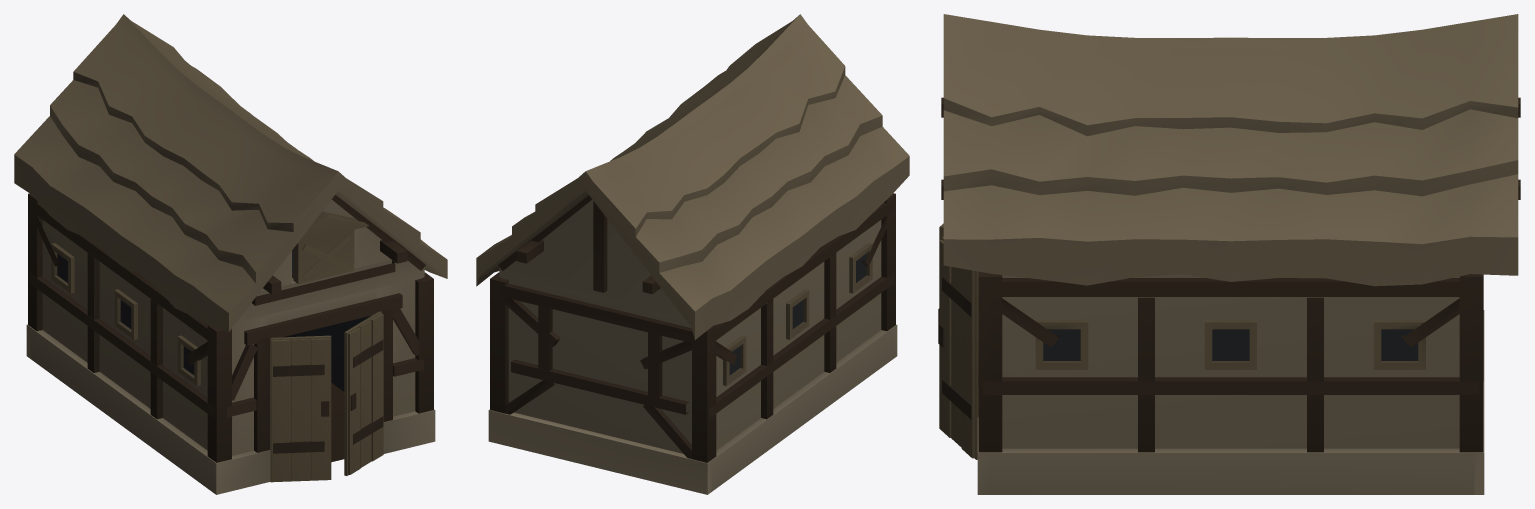
Rendered from b_timber_barn.glb.
3 views of the same model, side by side, from view 1: azimuth 30°, elevation 25°; view 2: azimuth 150°, elevation 25°; view 3: azimuth 270°, elevation 25° (orthographic). The views are drawn at different scales.
Visible parts, largest first — view 1: b_timber_barn; view 2: b_timber_barn; view 3: b_timber_barn.
Part boxes in pixels (x1,y1,x2,y2): b_timber_barn: (14,14,447,494); b_timber_barn: (476,14,909,494); b_timber_barn: (938,14,1520,494).
Size of the model in its own units: 4 by 5.35 by 6.89.
